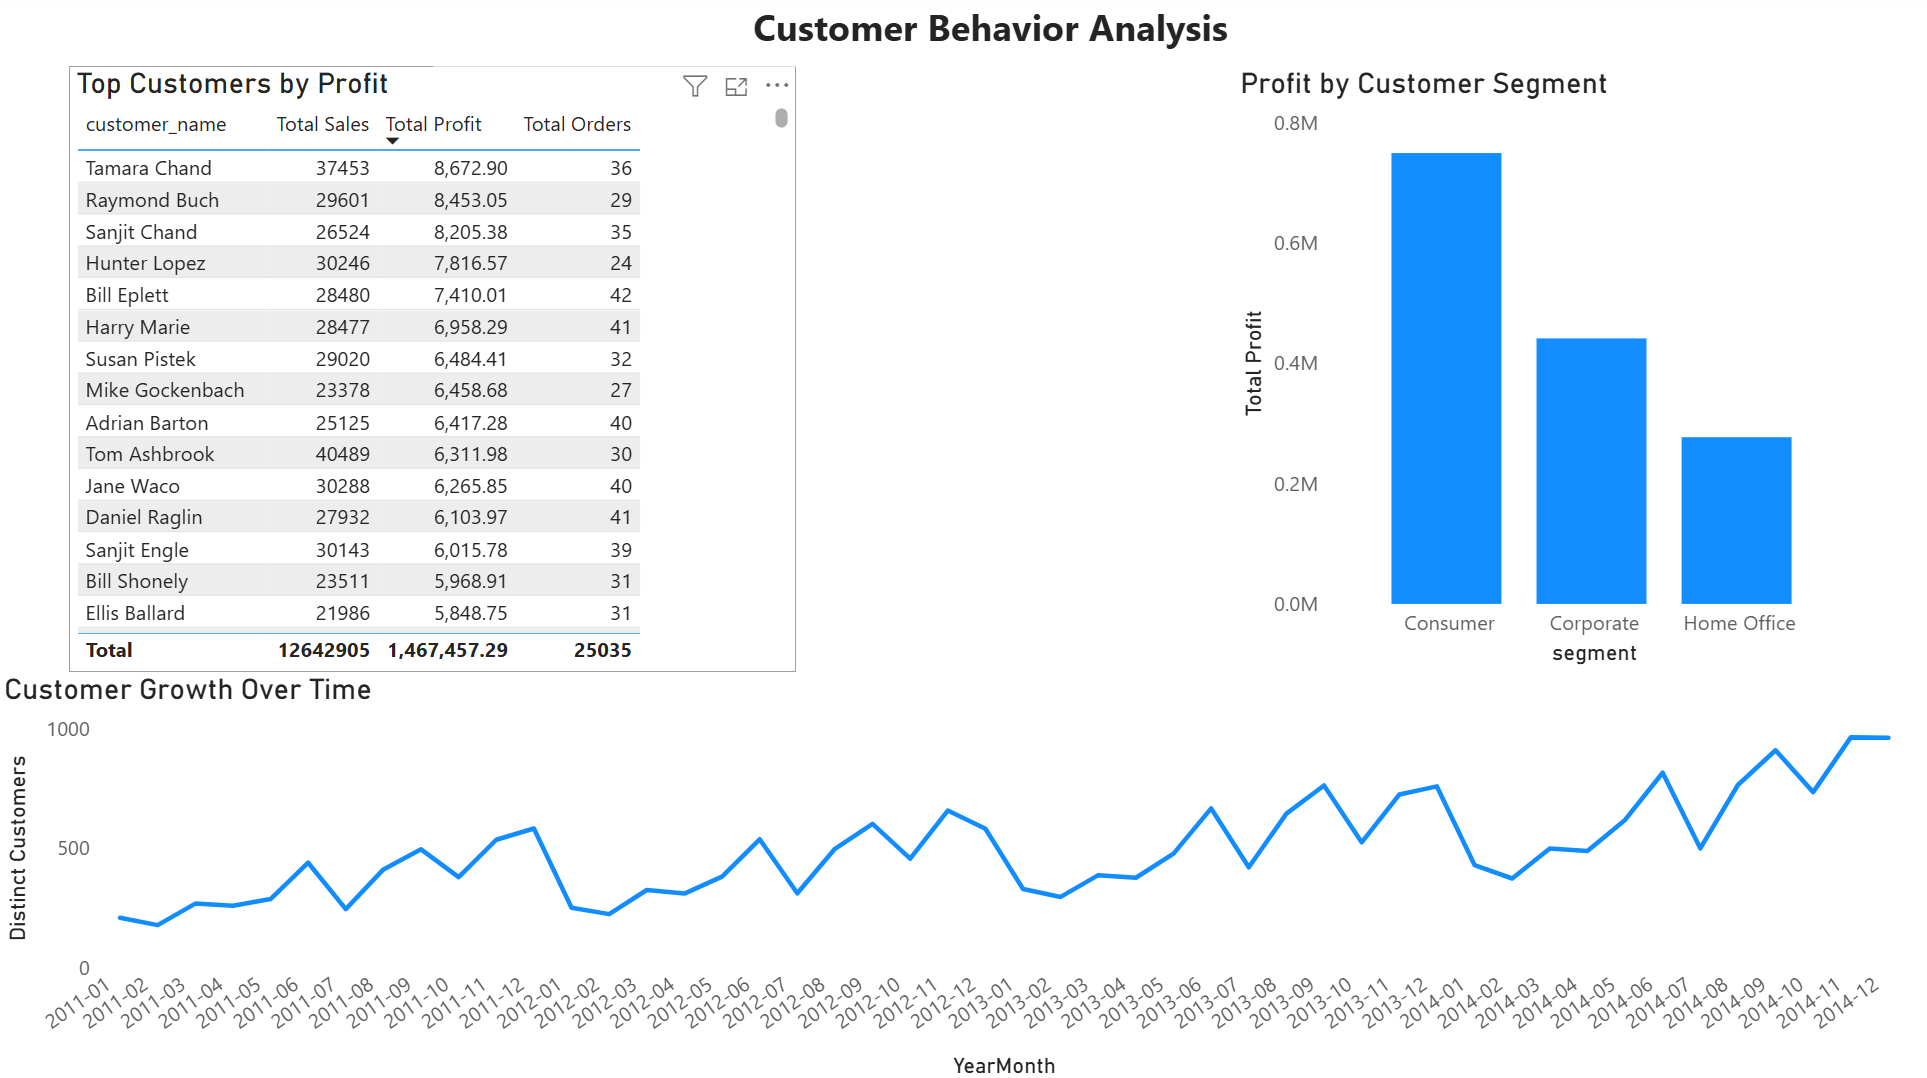

The page's visual inventory and layout, read from the dashboard file:
{"tool":"powerbi","page":{"name":"Customer Analysis","canvas":[1280,720],"ordinal":2},"visuals":[{"type":"tableEx","title":"Top Customers by Profit","fields":{"Values":["global_superstore_cleaned.customer_name","global_superstore_cleaned.Total Sales","global_superstore_cleaned.Total Profit","global_superstore_cleaned.Total Orders"]},"box":[48,48,480,400],"z":0},{"type":"lineChart","title":"Customer Growth Over Time","fields":{"Category":["global_superstore_cleaned.YearMonth"],"Y":["global_superstore_cleaned.Distinct Customers"]},"box":[0,448,1264,272],"z":1000},{"type":"clusteredColumnChart","title":"Profit by Customer Segment","fields":{"Category":["global_superstore_cleaned.segment"],"Y":["global_superstore_cleaned.Total Profit"]},"box":[816,48,416,400],"z":2000},{"type":"textbox","box":[288,0,736,48],"z":2001}]}

Visuals, with their boxes in screenshot pixels (x1, y1, x2, y2), scaled from the page's 1280x720 canvas onto the 1927x1078 screenshot:
"Top Customers by Profit" tableEx: <box>72,72,795,671</box>
"Customer Growth Over Time" lineChart: <box>0,671,1903,1077</box>
"Profit by Customer Segment" clusteredColumnChart: <box>1228,72,1855,671</box>
textbox: <box>434,0,1542,72</box>
